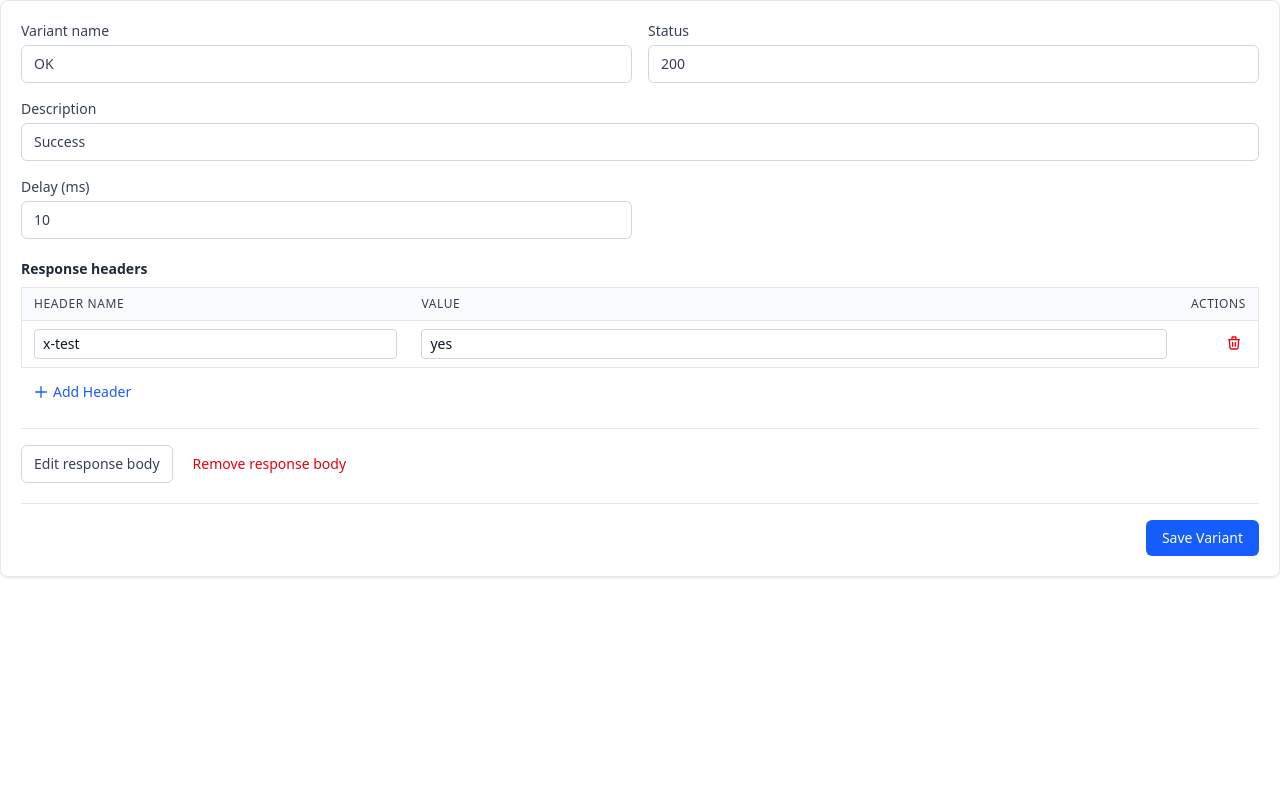
it: VariantEditor › preserves edited response header rows after a revision conflict
Replace the text in the 2nd field with placeholder "application/json" with "local-value" at x=794, y=344, box [421,329,1167,359]
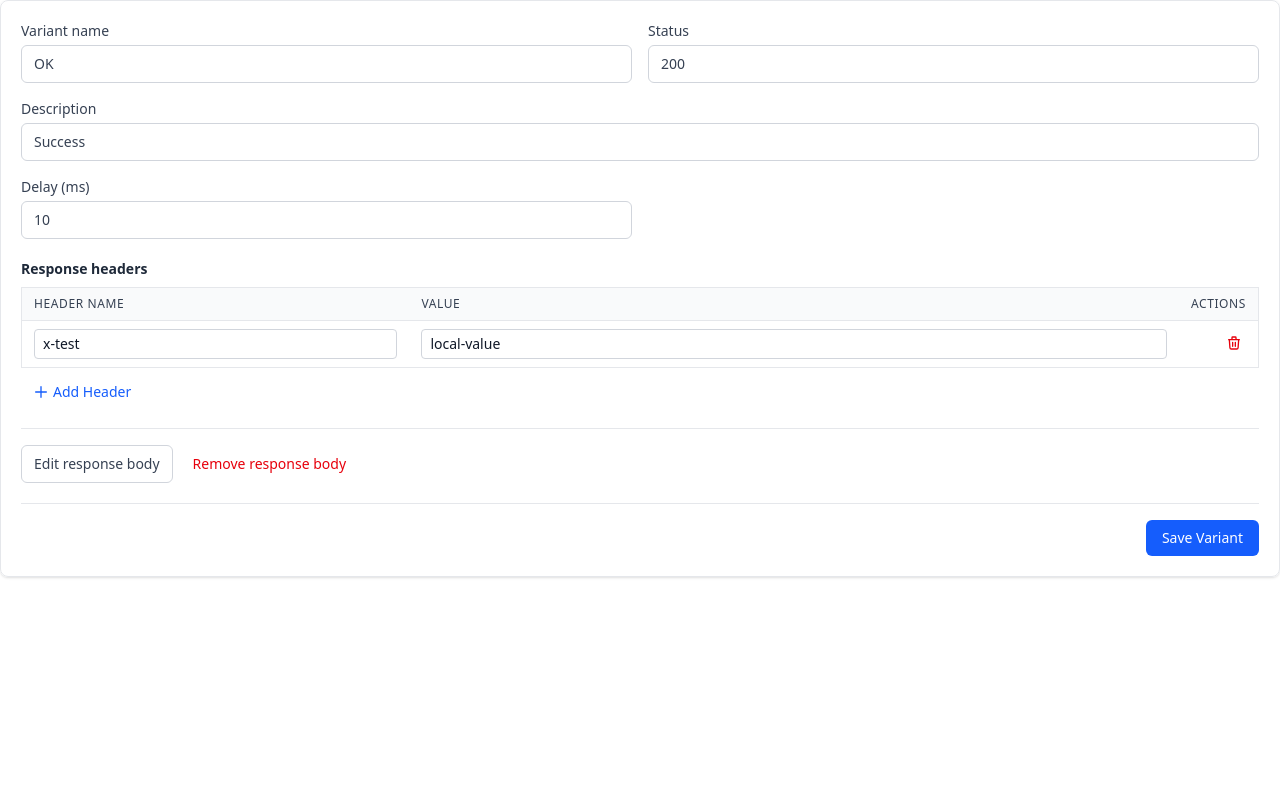
Click the button "Save Variant" at x=1202, y=538, box [1146,520,1259,556]
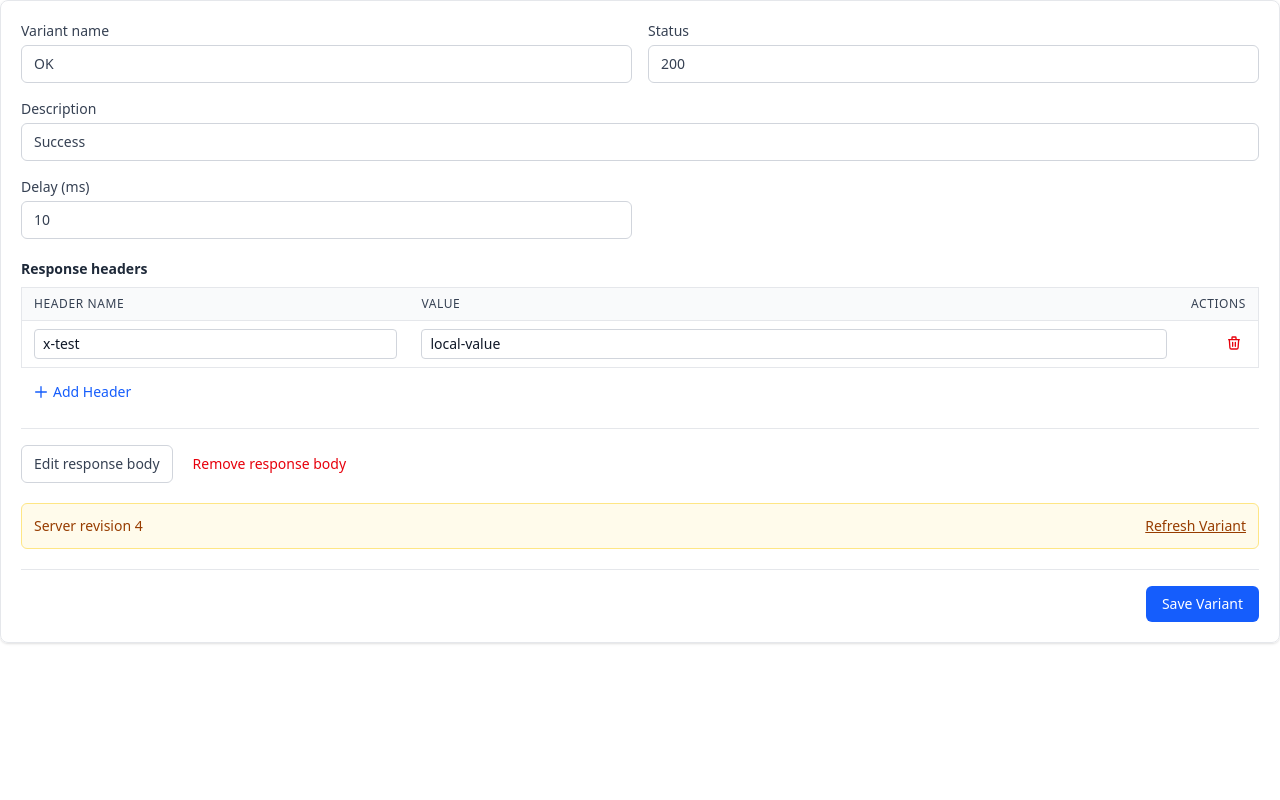
Result: the text "Server revision 4" is shown at [34,516,143,536]
